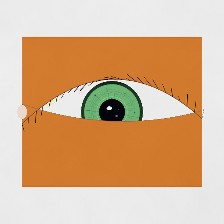pinguecula_lesion: (34, 86, 83, 126)
